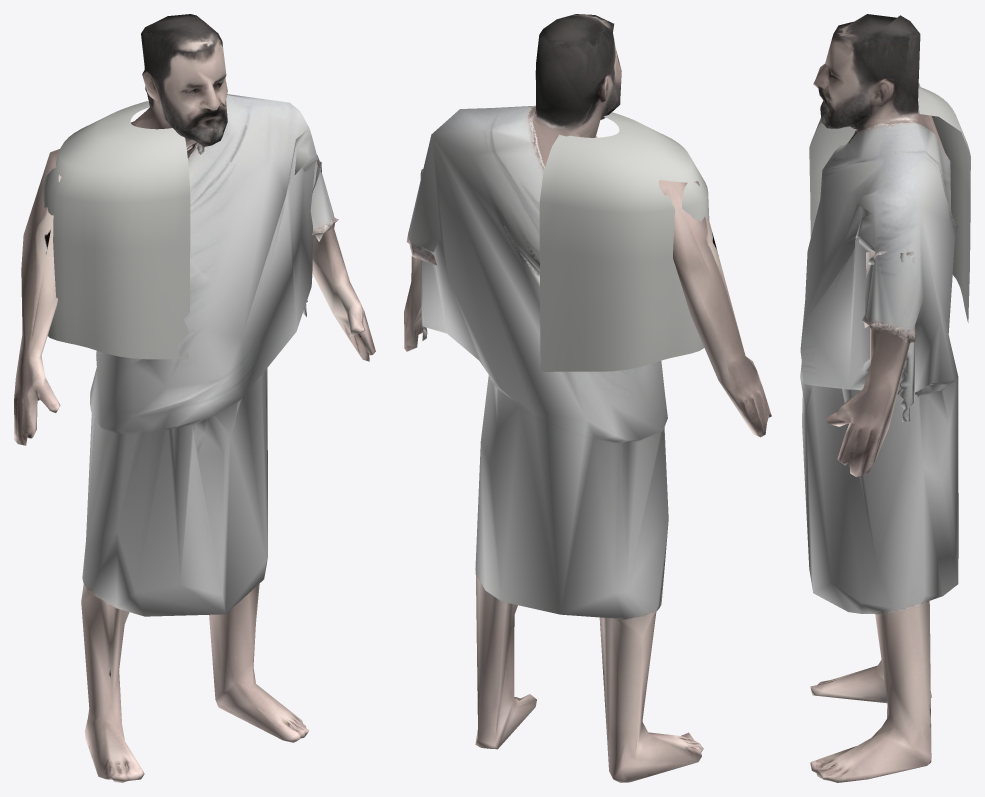
Rendered from man.glb.
3 views of the same model, side by side, from view 1: azimuth 30°, elevation 25°; view 2: azimuth 150°, elevation 25°; view 3: azimuth 270°, elevation 25° (orthographic). The views are drawn at different scales.
Parts seen in each view (by area): view 1: cloth, skin, cover; view 2: cloth, skin, cover; view 3: cloth, skin, cover.
Boxes of the visible parts, x1,y1,x2,y2 form: cloth: [82, 94, 333, 616]; skin: [14, 14, 375, 782]; cover: [43, 101, 190, 359]; cloth: [406, 105, 668, 618]; skin: [404, 14, 771, 782]; cover: [539, 112, 709, 371]; cloth: [800, 123, 959, 614]; skin: [810, 14, 944, 782]; cover: [809, 86, 970, 322].
Bounding box in the file's own units: 0.8841 × 1.72 × 0.3737.
Materials: 3 (2 with a texture image).
